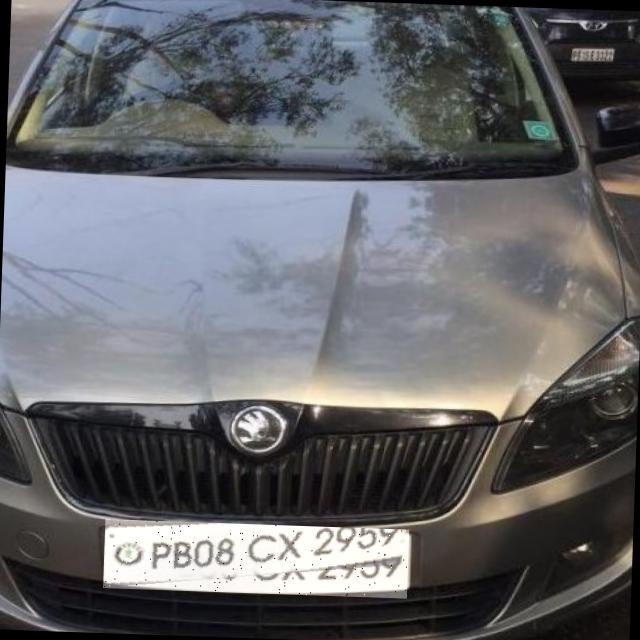Plate: (104, 520, 410, 600)
